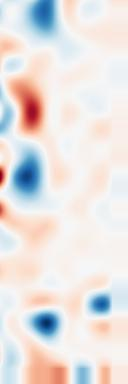filament: (8, 81, 53, 142)
